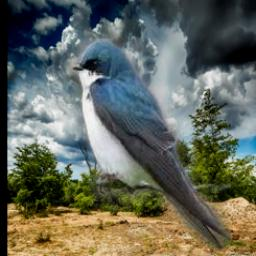Swallow: (70, 39, 232, 249)
